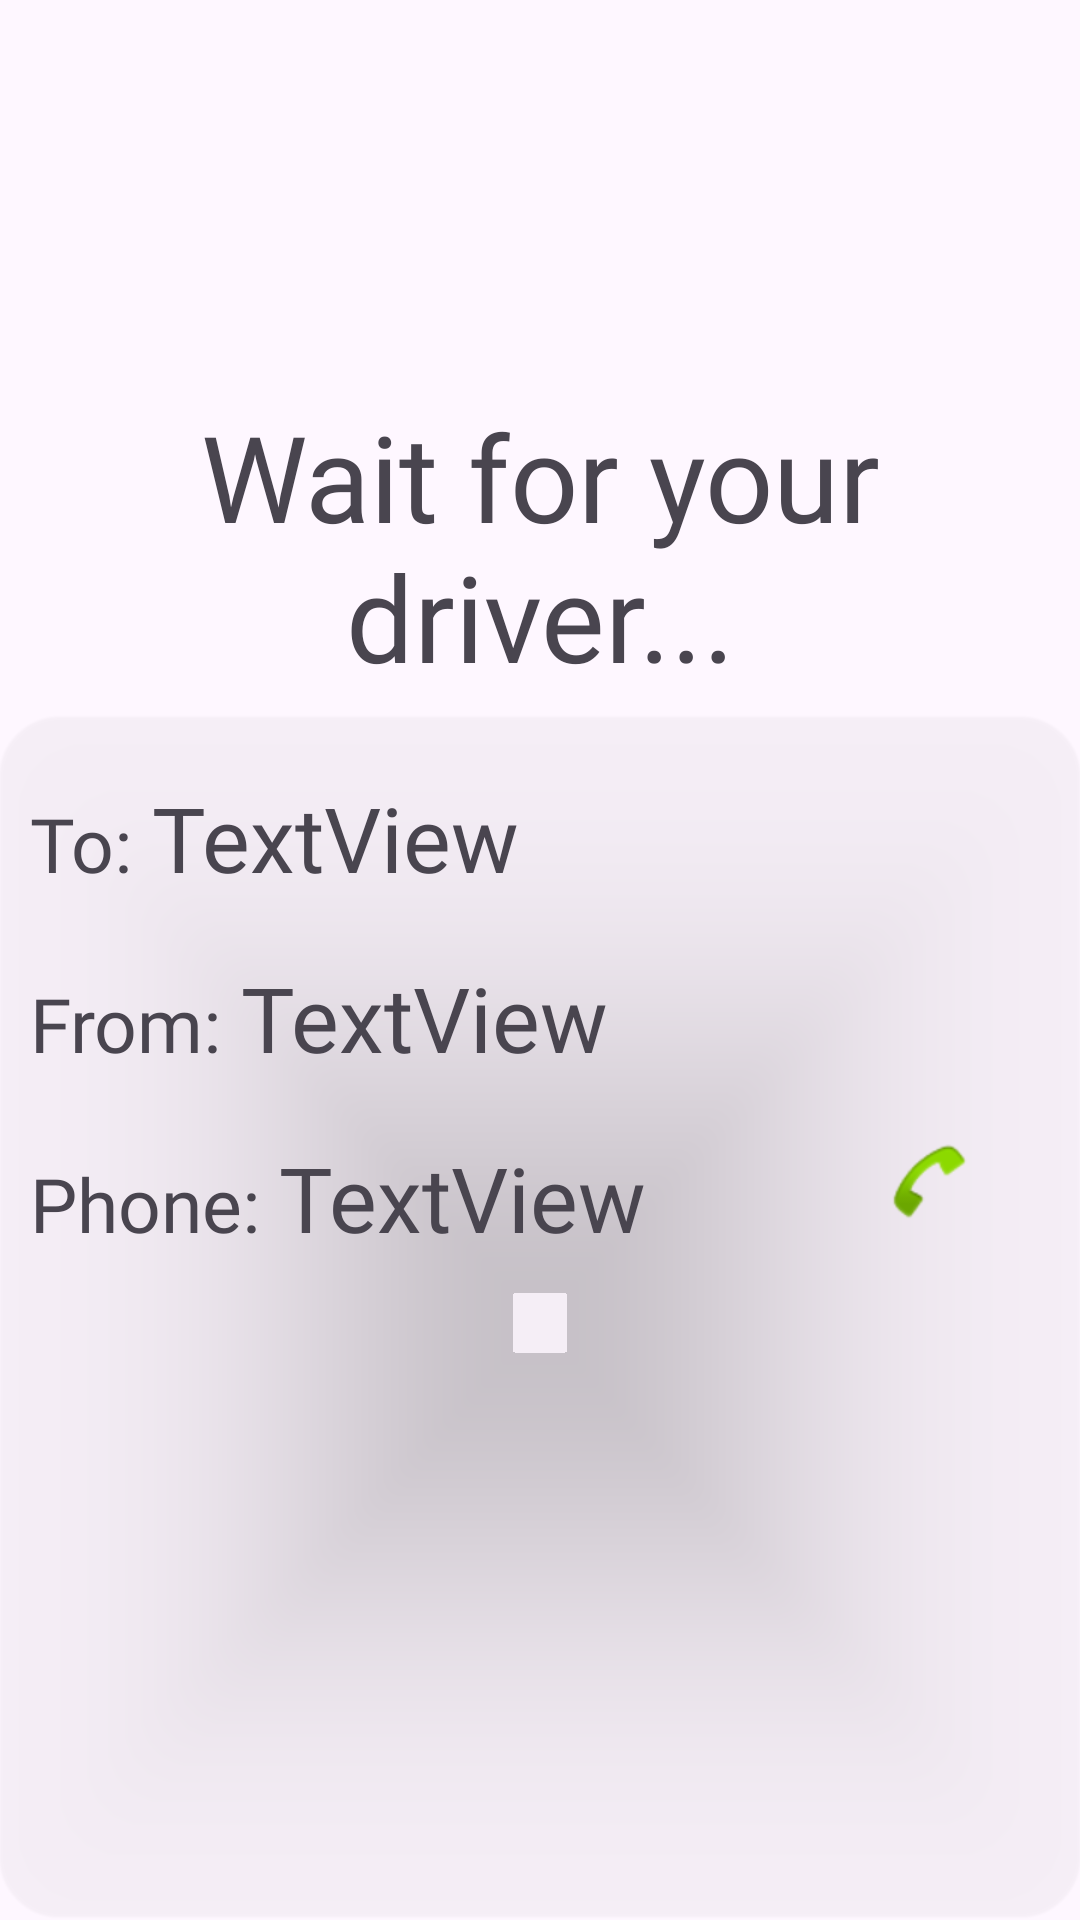

Named icons in this screenshot (1080w x 1920h) and their centers, [x,y]:
Phone Call Icon: [929,1181]
